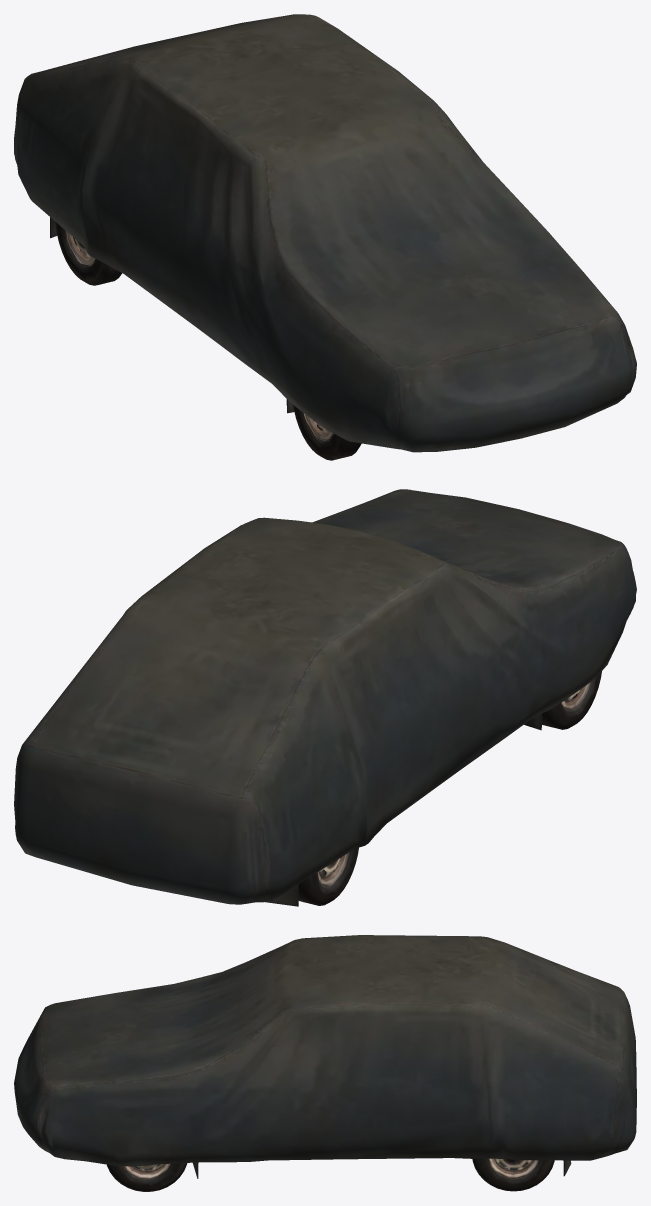
Rendered from covered_car.glb.
3 views of the same model, one above another, from view 1: azimuth 30°, elevation 25°; view 2: azimuth 150°, elevation 25°; view 3: azimuth 270°, elevation 25° (orthographic). The views are drawn at different scales.
Parts seen in each view (by area): view 1: covered_car_wheel_01; view 2: covered_car_wheel_01; view 3: covered_car_wheel_01.
Part boxes in pixels (left/top/right/bottom): covered_car_wheel_01: left=14, top=14, right=636, bottom=460; covered_car_wheel_01: left=14, top=489, right=636, bottom=906; covered_car_wheel_01: left=14, top=935, right=636, bottom=1191.
Size of the model in its own units: 1.79 by 1.41 by 4.38.
Materials: 1 (1 with a texture image).
